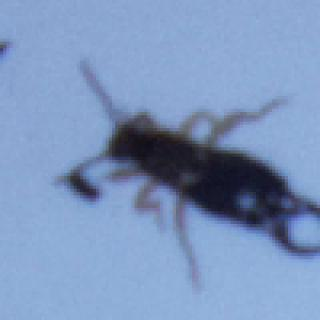earwig: (52, 58, 320, 284)
